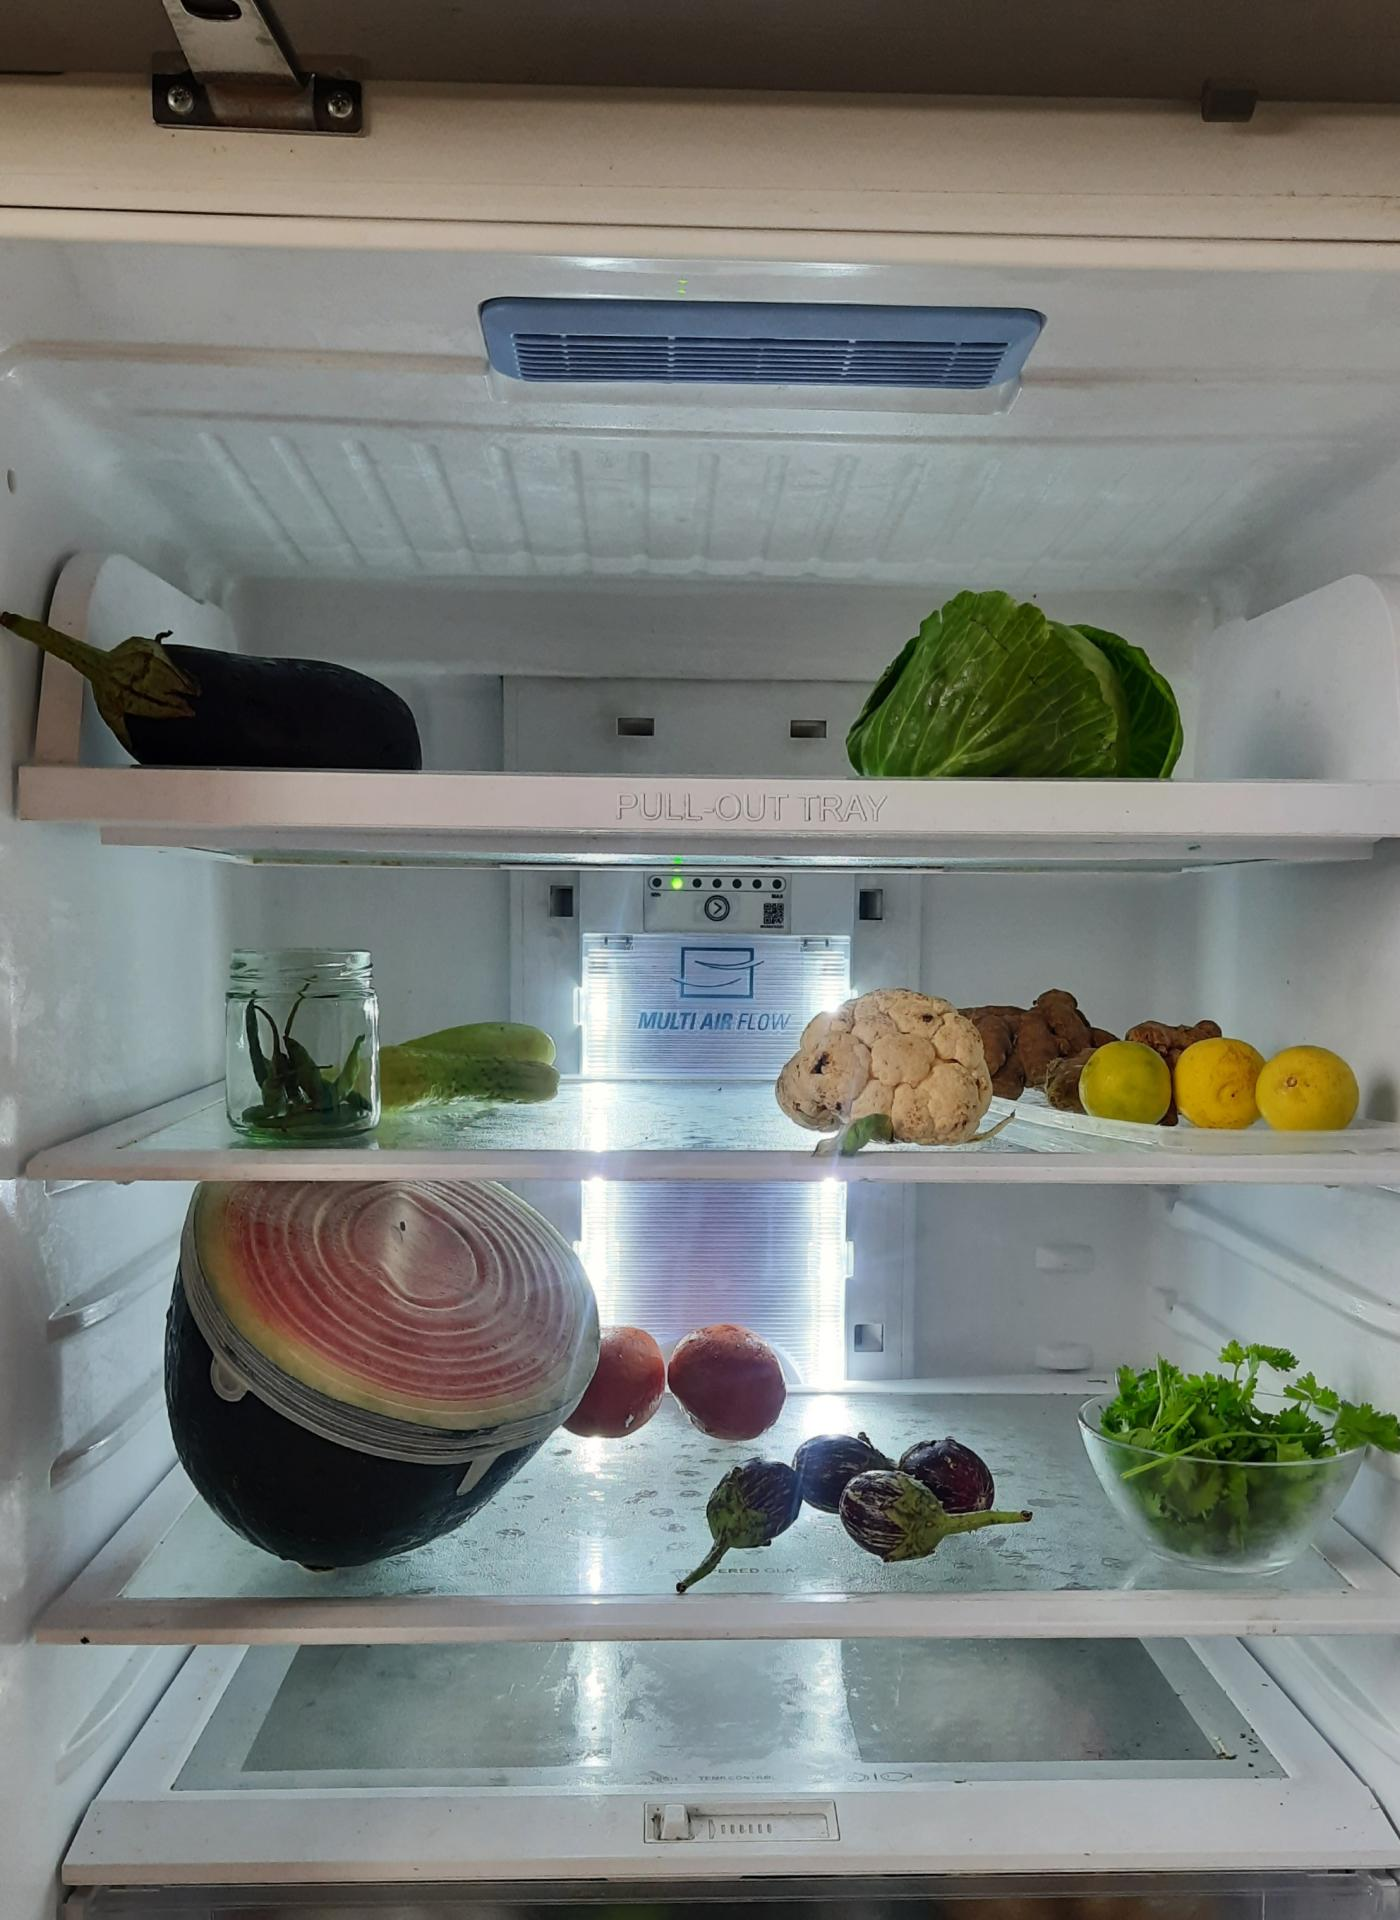brinjal: (0, 578, 423, 777), (699, 1427, 1057, 1580)
cabbage: (863, 589, 1179, 787)
cauliflower: (784, 988, 1026, 1170)
chillies: (231, 953, 386, 1142)
coriander: (1094, 1340, 1400, 1552)
cucumber: (385, 1021, 578, 1096)
ginger: (996, 988, 1245, 1124)
lemon: (1106, 1051, 1376, 1137)
tomato: (604, 1316, 787, 1443)
watermelon: (174, 1190, 610, 1565)
